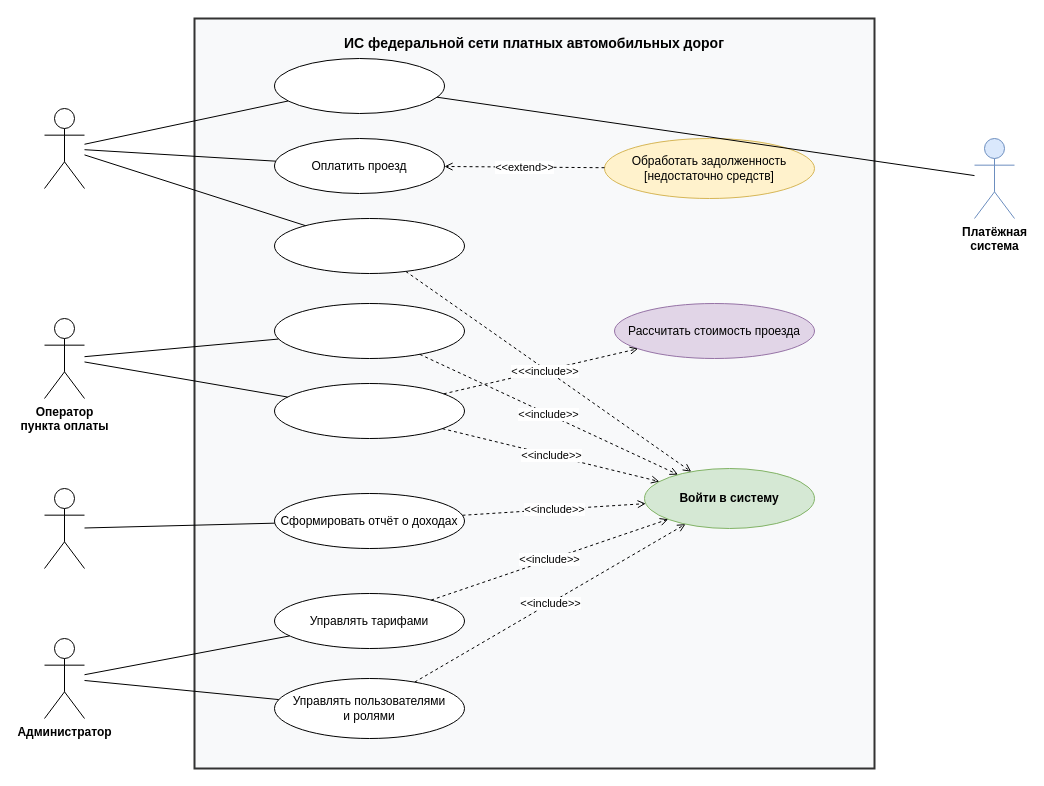
This 1044x786 diagram has some shape labels left out. Here are the shapes that lost their labels. From the top down, the centre of each, then its label:
At (x=359, y=86): "Пополнить счёт".
At (x=64, y=148): "Водитель".
At (x=369, y=246): "Просмотреть историю проездов".
At (x=369, y=330): "Зарегистрировать клиента и ТС".
At (x=369, y=410): "Зафиксировать проезд".
At (x=64, y=528): "Бухгалтер".
